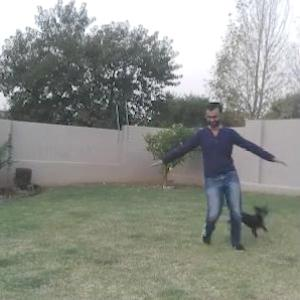land: (140, 96, 283, 254)
